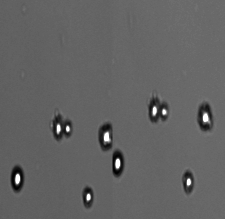Living Cell: (195, 100, 215, 131), (96, 121, 115, 150), (9, 163, 27, 192), (110, 148, 126, 178), (180, 169, 197, 194), (81, 185, 96, 208), (149, 98, 161, 124), (51, 118, 64, 140), (159, 104, 170, 121), (63, 120, 73, 137)
